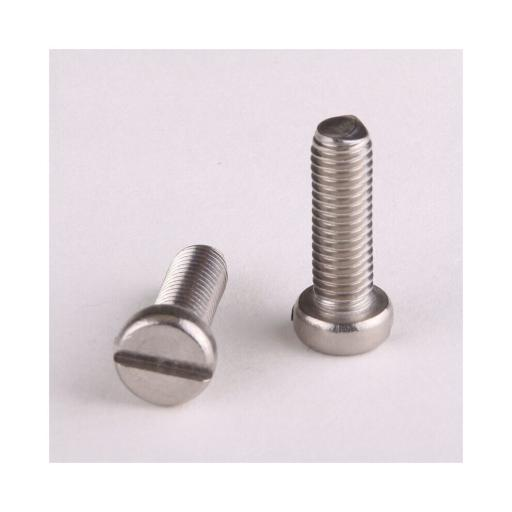Slotted: (113, 304, 216, 414)
